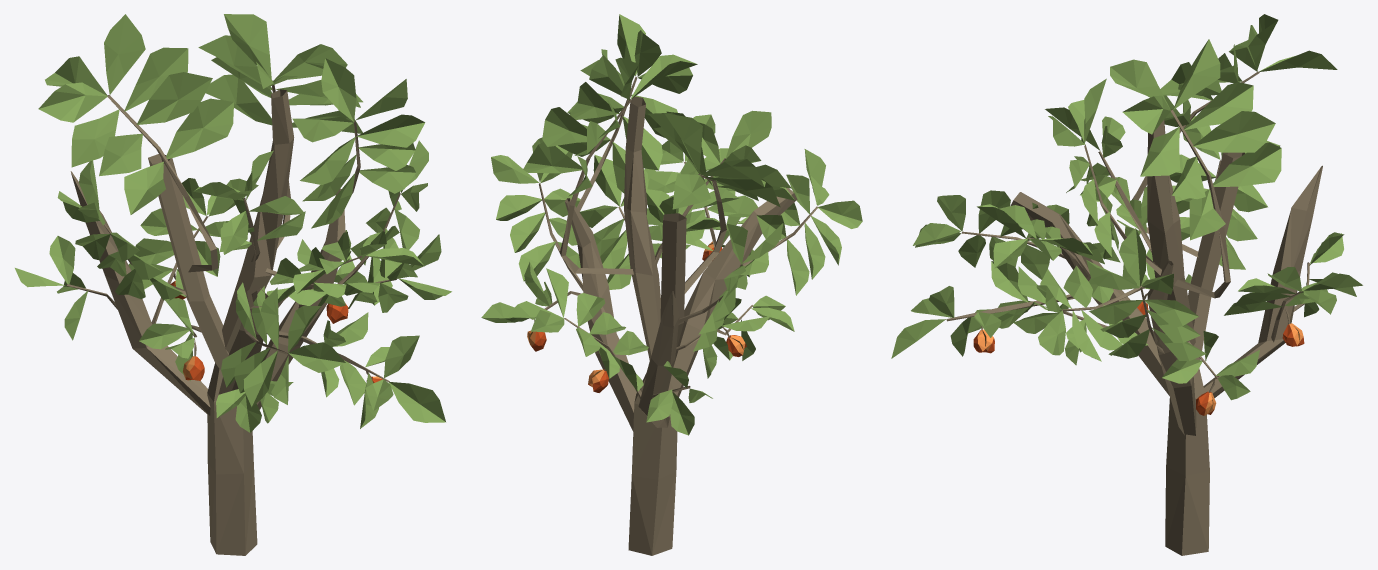
The model's file is Peach_4_3.fbx.
3 views of the same model, side by side, from view 1: azimuth 30°, elevation 25°; view 2: azimuth 150°, elevation 25°; view 3: azimuth 270°, elevation 25° (orthographic). The views are drawn at different scales.
Visible parts, largest first — view 1: Peach_4_3; view 2: Peach_4_3; view 3: Peach_4_3.
Boxes of the visible parts, left/top/right/bottom form: Peach_4_3: left=15, top=14, right=451, bottom=555; Peach_4_3: left=481, top=14, right=862, bottom=555; Peach_4_3: left=891, top=14, right=1362, bottom=555.
Bounding box in the file's own units: 368 × 548 × 462.
